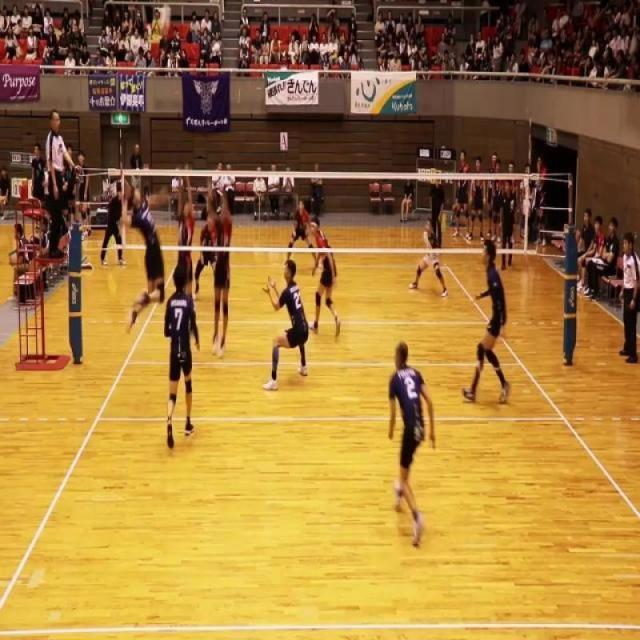volleyball: (160, 5, 172, 37)
